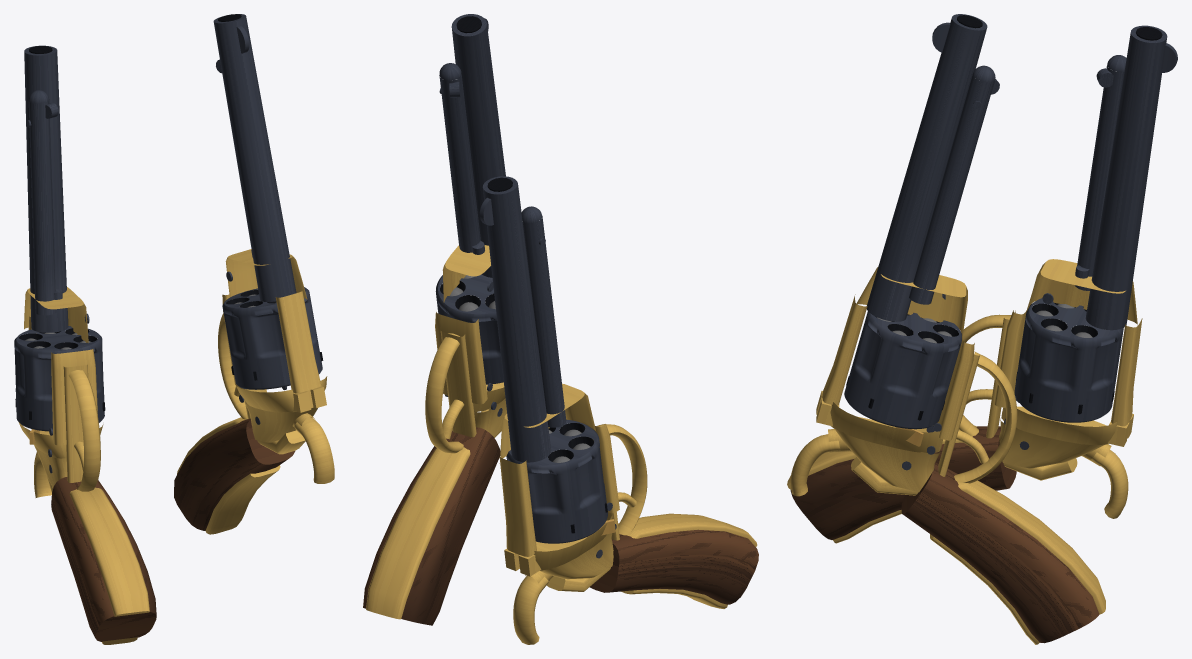
The model's file is gun.gold-medal.gltf.
The picture shows the model from 3 angles, left to right: view 1: azimuth 30°, elevation 25°; view 2: azimuth 150°, elevation 25°; view 3: azimuth 270°, elevation 25°; orthographic projection. The views are drawn at different scales.
Visible parts, largest first — view 1: revolver (×2); view 2: revolver (×2); view 3: revolver (×2).
Boxes of the visible parts, x1,y1,x2,y2 form: revolver (×2): (14,14,334,644); revolver (×2): (363,14,758,644); revolver (×2): (787,14,1177,644).
Size of the model in its own units: 0.1616 by 0.3355 by 0.1944.
Materials: 1 (1 with a texture image).
